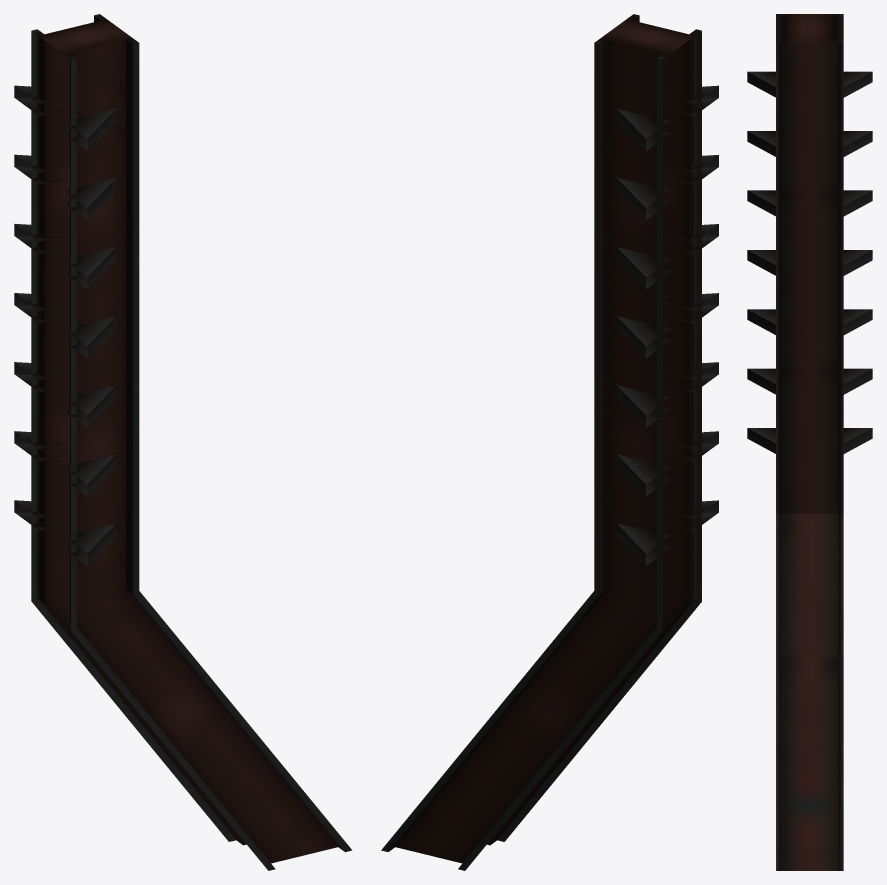
The model's file is Beam_03.FBX.
3 views of the same model, side by side, from view 1: azimuth 30°, elevation 25°; view 2: azimuth 150°, elevation 25°; view 3: azimuth 270°, elevation 25° (orthographic). The views are drawn at different scales.
Visible parts, largest first — view 1: Beam_03; view 2: Beam_03; view 3: Beam_03.
Boxes of the visible parts, left/top/right/bottom form: Beam_03: left=14, top=14, right=352, bottom=870; Beam_03: left=381, top=14, right=718, bottom=870; Beam_03: left=747, top=14, right=872, bottom=870.
Size of the model in its own units: 103 by 300 by 46.2.
